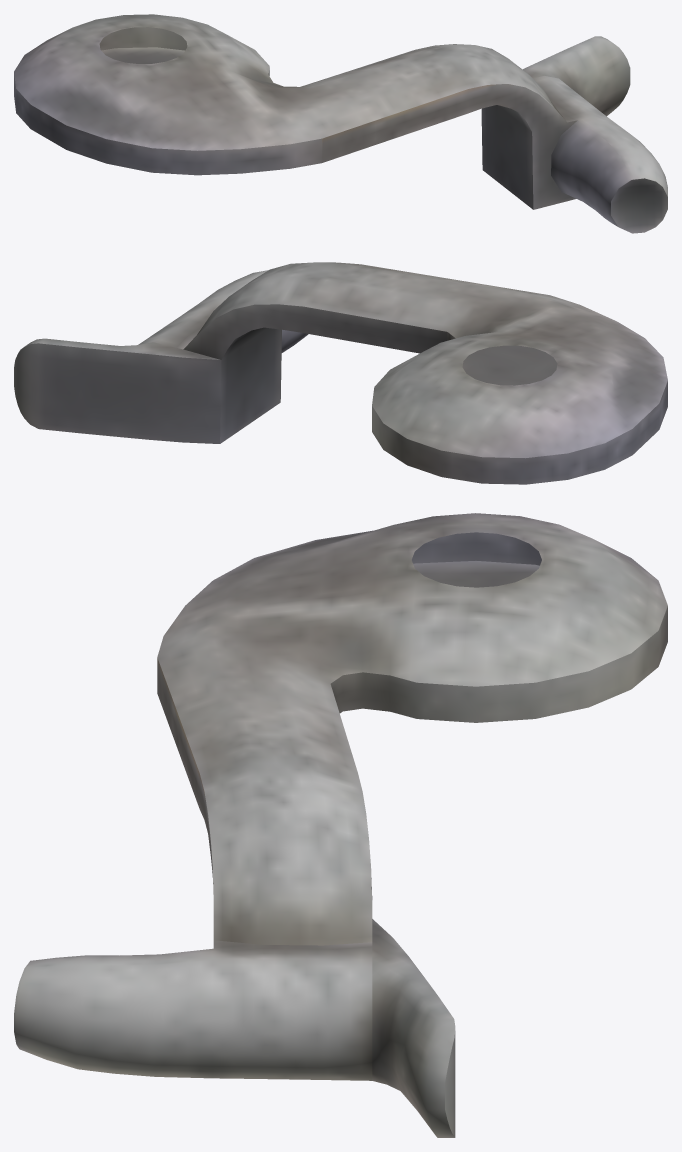
Rendered from SM_McKennan_01e.fbx.
The picture shows the model from 3 angles, top to bottom: view 1: azimuth 30°, elevation 25°; view 2: azimuth 150°, elevation 25°; view 3: azimuth 270°, elevation 25°; orthographic projection. The views are drawn at different scales.
Parts seen in each view (by area): view 1: SM_McKennan_01e_LOD0; view 2: SM_McKennan_01e_LOD0; view 3: SM_McKennan_01e_LOD0.
Boxes of the visible parts, bbox=[...] form: SM_McKennan_01e_LOD0: bbox=[14, 14, 667, 233]; SM_McKennan_01e_LOD0: bbox=[14, 262, 667, 484]; SM_McKennan_01e_LOD0: bbox=[14, 513, 667, 1137].
Bounding box in the file's own units: 6.4 × 4.2 × 1.81.
